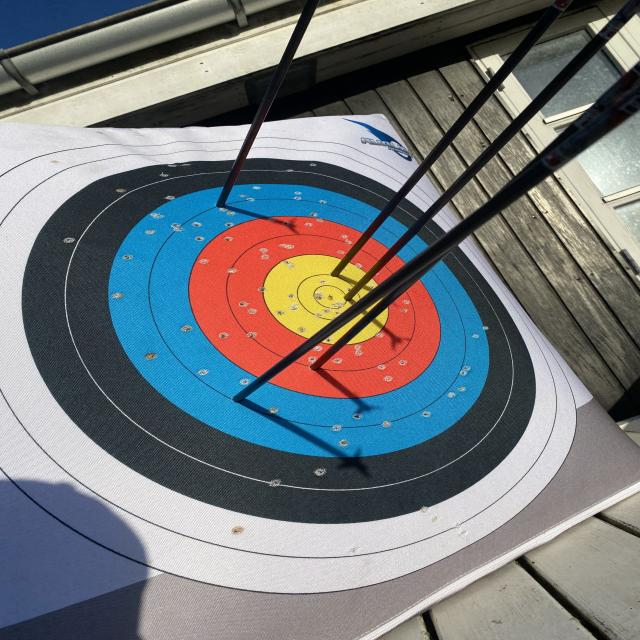Arrow_Blue: (220, 380, 274, 418), (214, 184, 240, 222)
Arrow_Red: (307, 352, 334, 380)
Arrow_Yellow: (323, 256, 350, 292), (334, 286, 368, 307)
